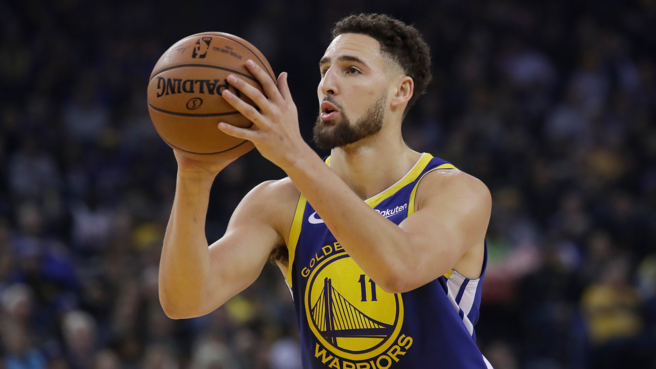Basketball: (142, 29, 275, 160)
